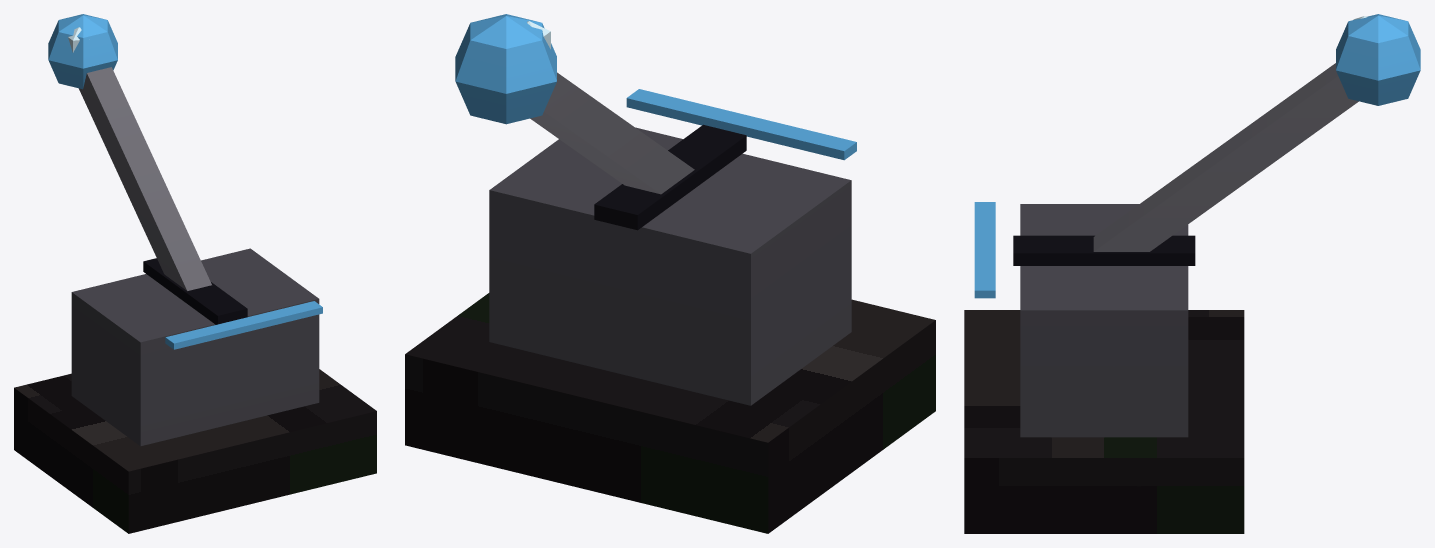
The model's file is lever_up.glb.
3 renders of one model, left to right at view 1: azimuth 30°, elevation 25°; view 2: azimuth 150°, elevation 25°; view 3: azimuth 270°, elevation 25°, orthographic. The views are drawn at different scales.
Parts seen in each view (by area): view 1: lever_up; view 2: lever_up; view 3: lever_up.
Part boxes in pixels (x1,y1,x2,y2): lever_up: [14, 14, 376, 533]; lever_up: [405, 14, 935, 533]; lever_up: [964, 14, 1420, 533].
Bounding box in the file's own units: 0.5 × 0.7008 × 0.6523.
Materials: 3 (1 with a texture image).
